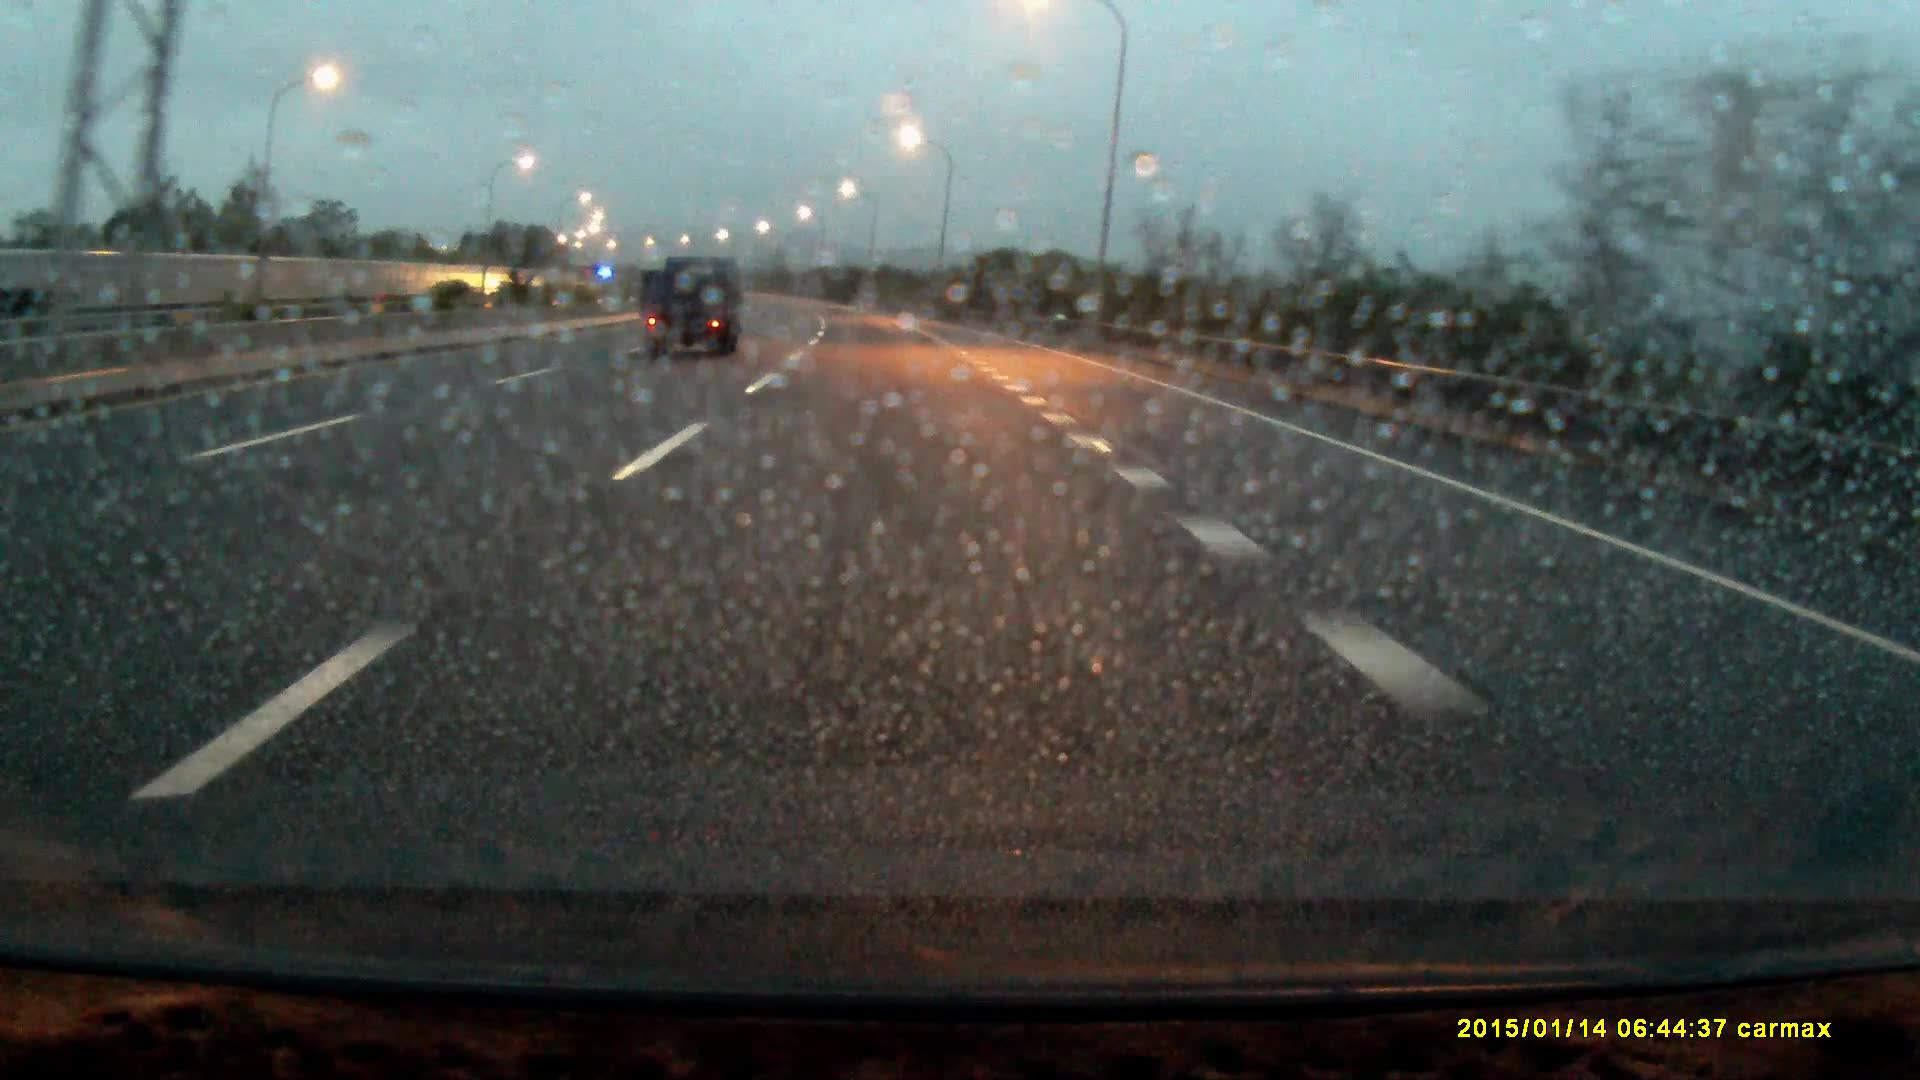vehicle: (642, 255, 745, 367)
